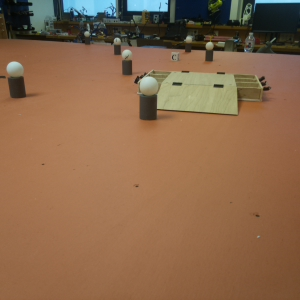obstacle: (6, 60, 27, 99), (139, 76, 158, 117), (120, 48, 133, 75), (204, 42, 214, 62), (184, 35, 193, 54), (112, 37, 121, 54), (83, 30, 89, 44)
side: (237, 70, 269, 104)
slope: (150, 83, 244, 116)
